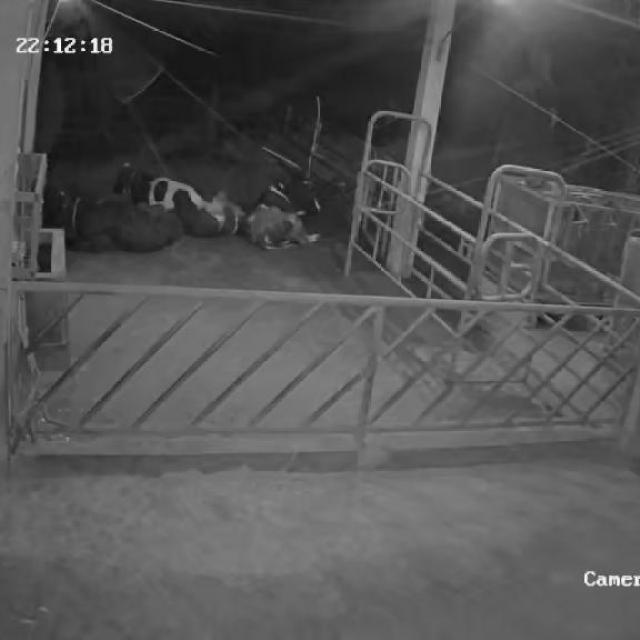lying down: (42, 174, 190, 252), (117, 157, 251, 243), (250, 165, 328, 251)
